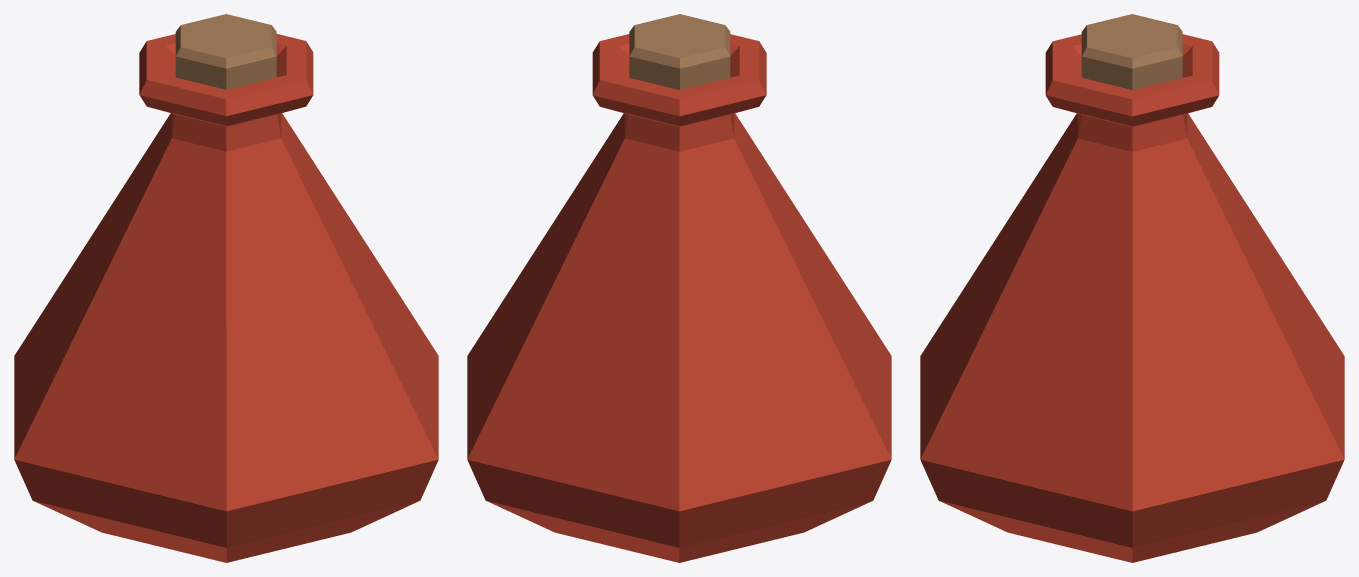
The model's file is Red_Potion_6.fbx.
The picture shows the model from 3 angles, left to right: view 1: azimuth 30°, elevation 25°; view 2: azimuth 150°, elevation 25°; view 3: azimuth 270°, elevation 25°; orthographic projection.
Parts seen in each view (by area): view 1: Red_Potion_6; view 2: Red_Potion_6; view 3: Red_Potion_6.
Boxes of the visible parts, left/top/right/bottom form: Red_Potion_6: left=14, top=14, right=438, bottom=562; Red_Potion_6: left=467, top=14, right=891, bottom=562; Red_Potion_6: left=920, top=14, right=1344, bottom=562.
Size of the model in its own units: 20.22 by 21.21 by 17.51.
